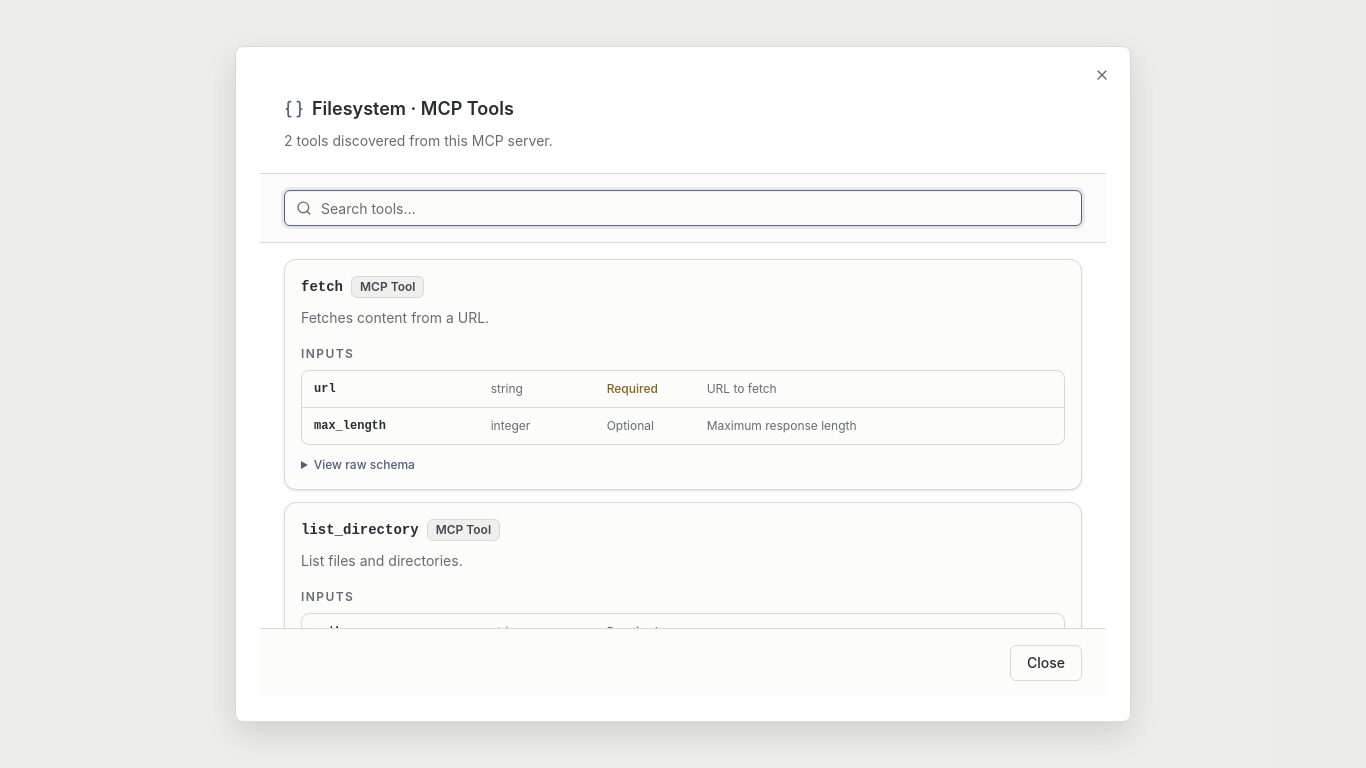
Test: McpDiscoveryDialog › filters tools by name, description, or schema
Type "directory" into the field labelled "Search tools…" at (683, 208), box [284, 190, 1082, 226]
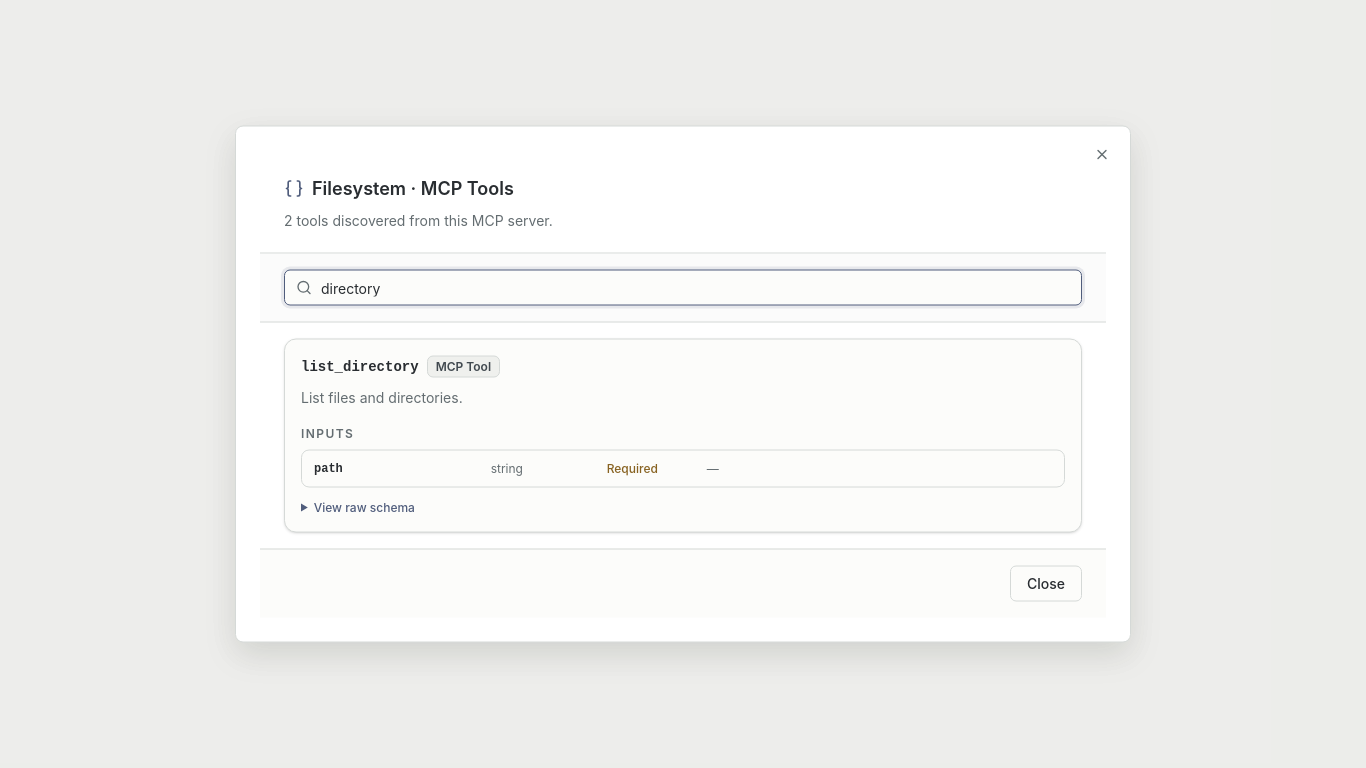
Expected: the heading "list_directory" is shown, [301, 356, 419, 376]
Expected: the heading "fetch" is gone
Replace the text in the field named "Search tools…" with "missing" at (683, 288), box [284, 270, 1082, 306]
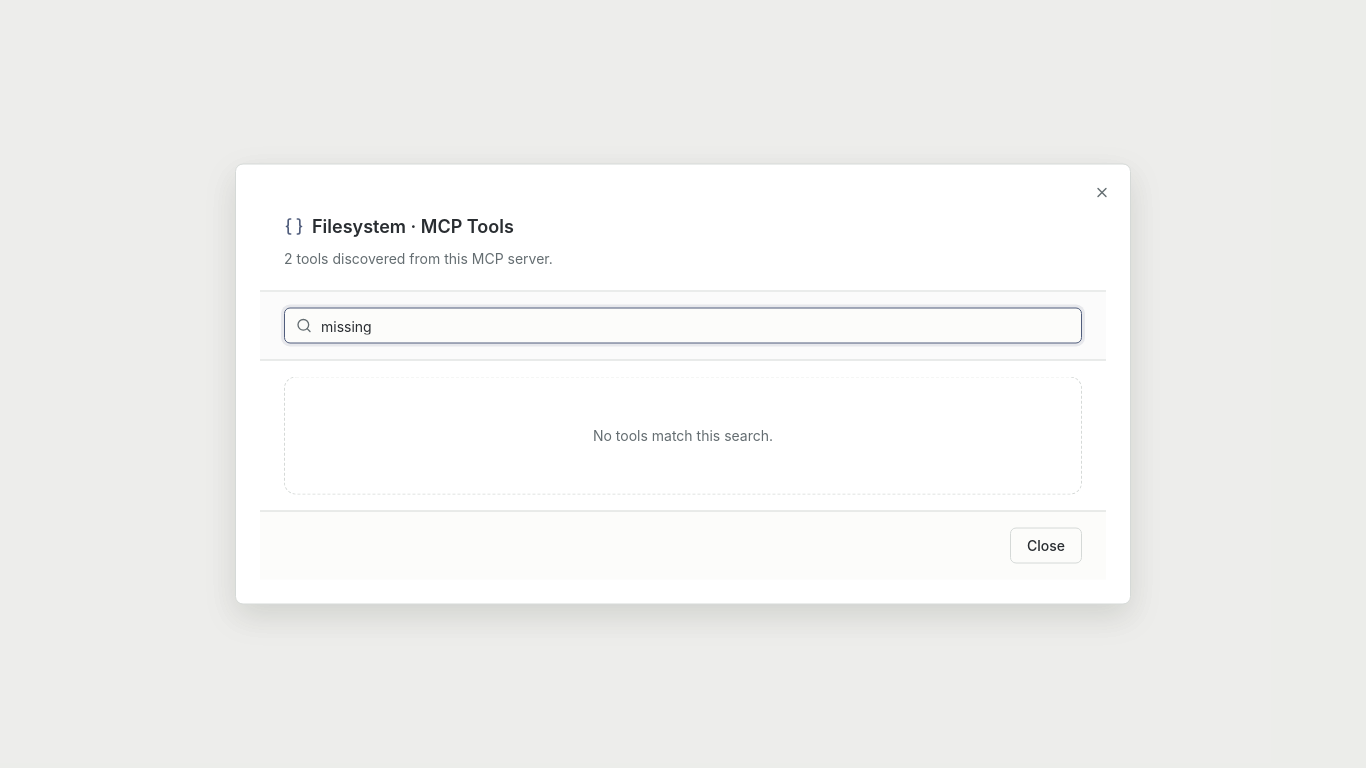
Expected: the text "No tools match this search." is shown, [284, 376, 1082, 494]
